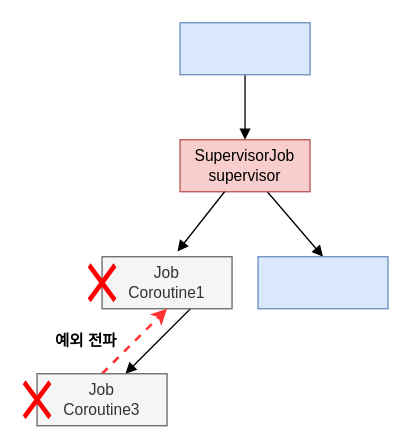
Some shapes in this 411 by 448 pixel diagram are drawn without their labels. Here are the shapes that lost their labels. From the top down, the centre of each, then its label:
pixel 244 48: Job runBlocking
pixel 322 282: Job Coroutine2
